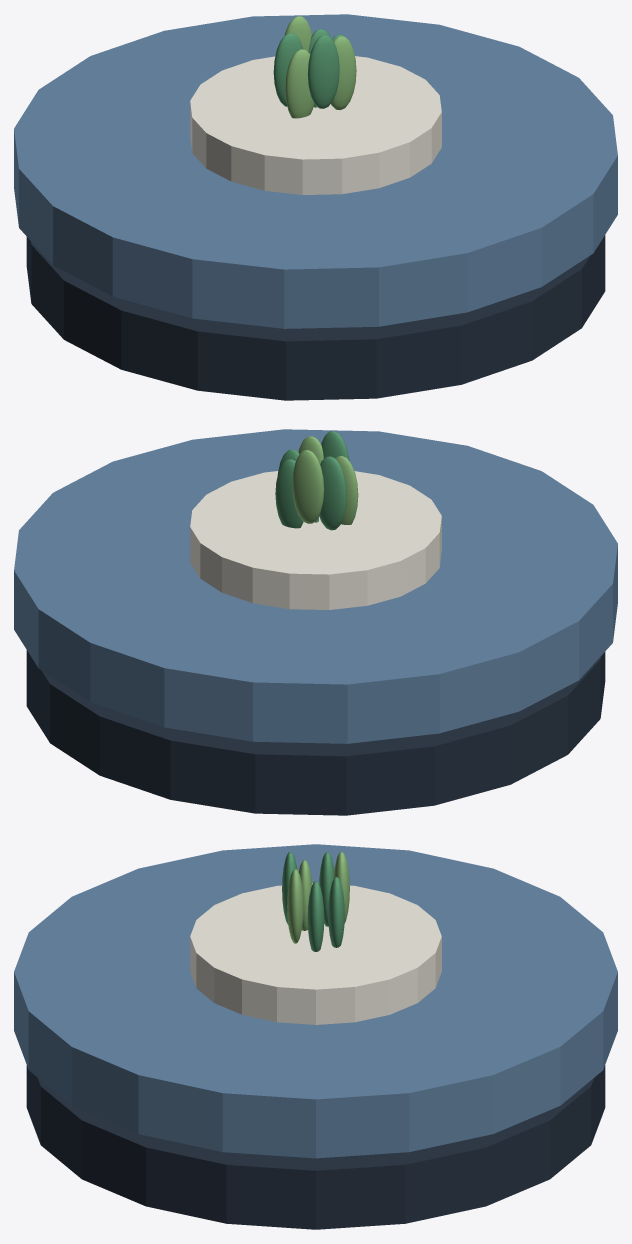
The model's file is public_04.glb.
The picture shows the model from 3 angles, top to bottom: view 1: azimuth 30°, elevation 25°; view 2: azimuth 150°, elevation 25°; view 3: azimuth 270°, elevation 25°; orthographic projection.
Parts seen in each view (by area): view 1: BenchSeat, BenchBase, CentralPlanter, Leaf (×5); view 2: BenchSeat, BenchBase, CentralPlanter, Leaf (×5); view 3: BenchSeat, BenchBase, CentralPlanter, Leaf (×6).
Boxes of the visible parts, box(x1,y1,x2,y2) form: BenchSeat: box(14, 14, 617, 328); BenchBase: box(26, 235, 605, 400); CentralPlanter: box(190, 56, 441, 194); Leaf (×5): box(273, 16, 356, 118); BenchSeat: box(14, 429, 617, 743); BenchBase: box(26, 650, 605, 815); CentralPlanter: box(190, 471, 441, 609); Leaf (×5): box(275, 431, 358, 530); BenchSeat: box(14, 844, 617, 1158); BenchBase: box(26, 1065, 605, 1229); CentralPlanter: box(190, 883, 441, 1024); Leaf (×6): box(287, 852, 349, 951).
Bounding box in the file's own units: 1.39 × 0.7275 × 1.39.
